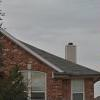Chimney: (58, 38, 80, 66)
